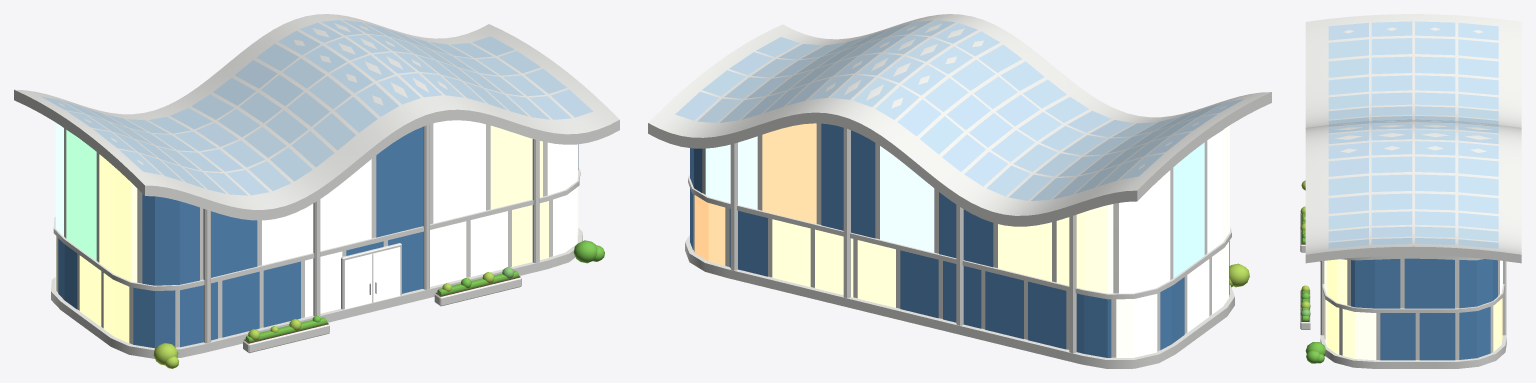
File: pavilhao_cobertura_ondulada.glb
3 views of the same model, side by side, from view 1: azimuth 30°, elevation 25°; view 2: azimuth 150°, elevation 25°; view 3: azimuth 270°, elevation 25° (orthographic). The views are drawn at different scales.
Visible parts, largest first — view 1: pavilhao_cobertura_ondulada; view 2: pavilhao_cobertura_ondulada; view 3: pavilhao_cobertura_ondulada.
Boxes of the visible parts, left/top/right/bottom form: pavilhao_cobertura_ondulada: left=14, top=14, right=619, bottom=368; pavilhao_cobertura_ondulada: left=648, top=14, right=1271, bottom=368; pavilhao_cobertura_ondulada: left=1300, top=14, right=1521, bottom=368.
Bounding box in the file's own units: 26 × 10.63 × 12.7.
6 materials, 1 textured.
